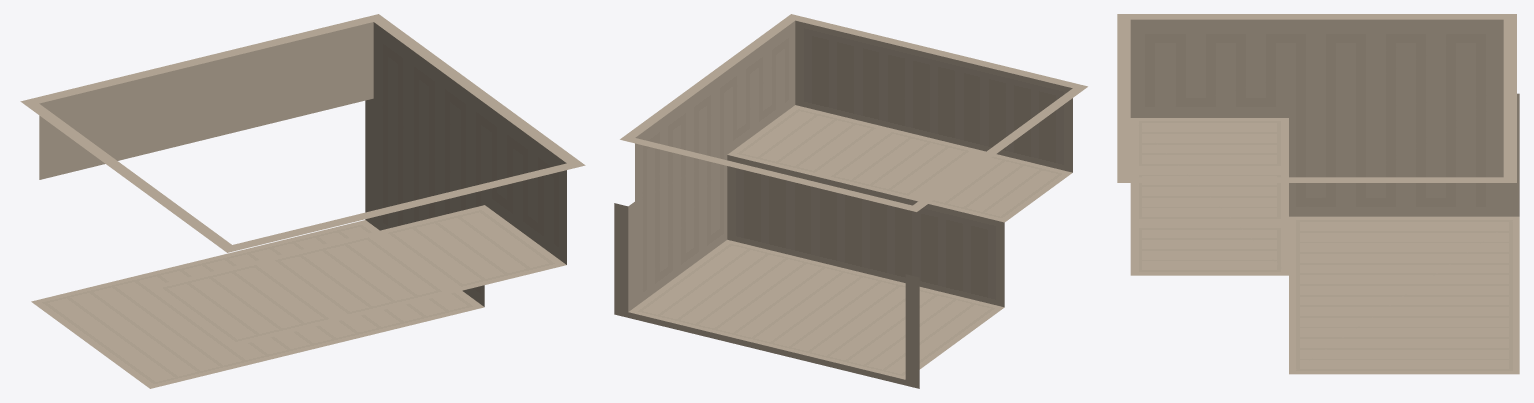
File: kd_stage_135b75_4_104.glb
3 views of the same model, side by side, from view 1: azimuth 30°, elevation 25°; view 2: azimuth 150°, elevation 25°; view 3: azimuth 270°, elevation 25° (orthographic). The views are drawn at different scales.
Parts seen in each view (by area): view 1: kd_stage_135b75_4_104; view 2: kd_stage_135b75_4_104; view 3: kd_stage_135b75_4_104.
Part boxes in pixels (x1,y1,x2,y2): kd_stage_135b75_4_104: [20, 14, 585, 388]; kd_stage_135b75_4_104: [614, 14, 1087, 388]; kd_stage_135b75_4_104: [1117, 14, 1519, 374].
Bounding box in the file's own units: 0.7697 × 0.4218 × 0.755.
1 material, 1 textured.
